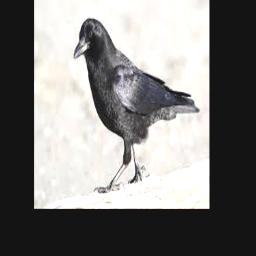Crow: (74, 18, 201, 193)
